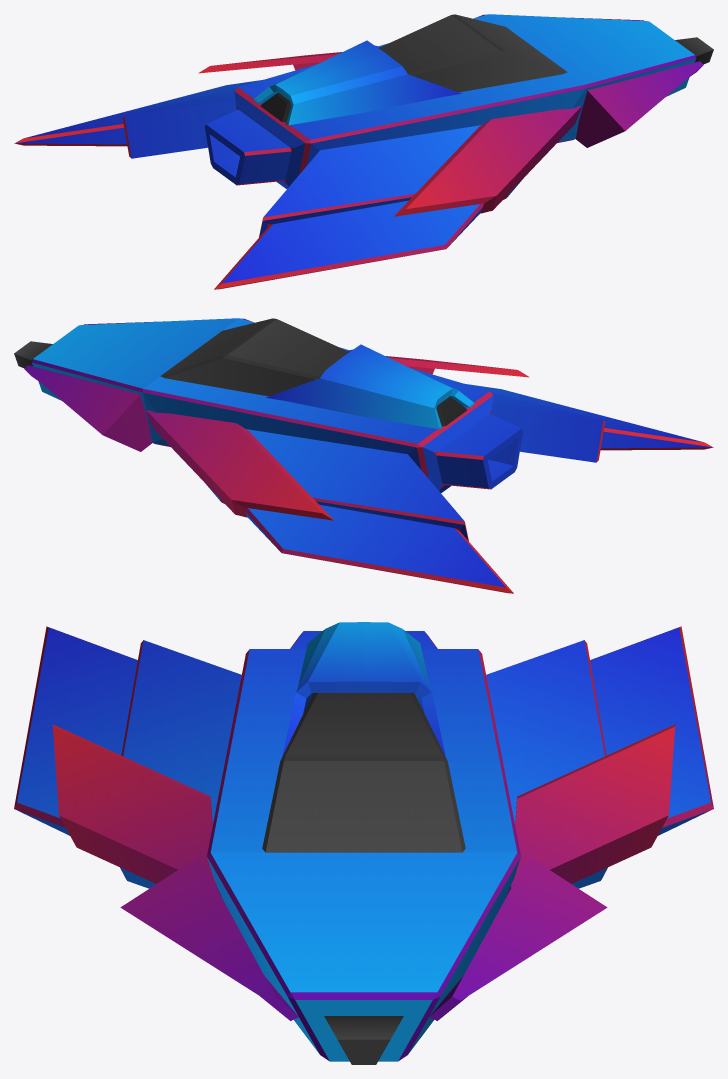
3 renders of one model, top to bottom at view 1: azimuth 30°, elevation 25°; view 2: azimuth 150°, elevation 25°; view 3: azimuth 270°, elevation 25°, orthographic. The views are drawn at different scales.
Parts seen in each view (by area): view 1: Cube; view 2: Cube; view 3: Cube.
Part boxes in pixels (box(x1,y1,x2,y2)): Cube: box(14, 14, 713, 289); Cube: box(14, 318, 713, 593); Cube: box(14, 622, 713, 1064).
Bounding box in the file's own units: 3.01 × 0.5161 × 1.94.
1 material, 1 textured.
